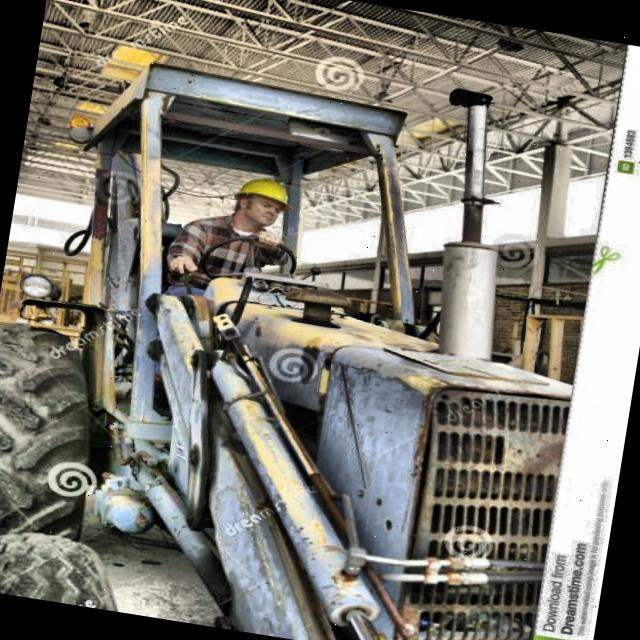helmet: (219, 166, 296, 240)
